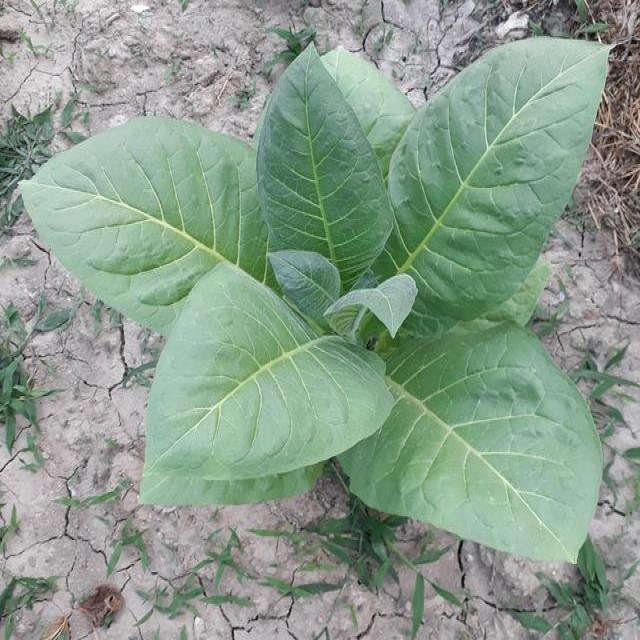crop: (18, 36, 600, 565)
